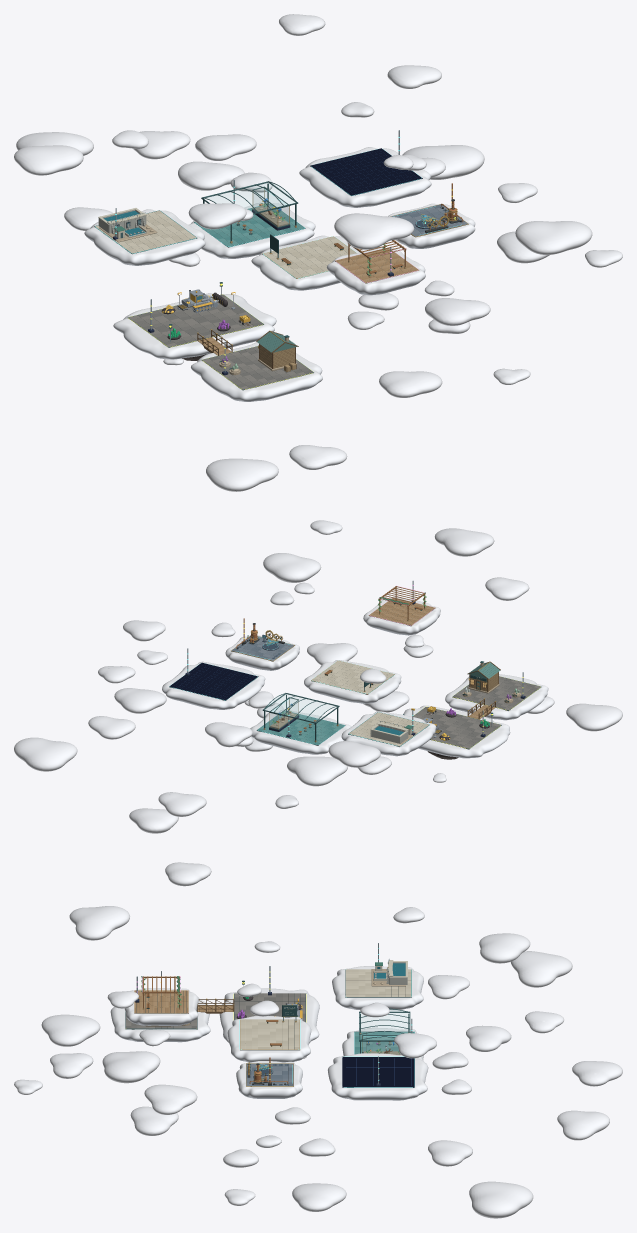
The model's file is cloud-world.glb.
3 renders of one model, top to bottom at view 1: azimuth 30°, elevation 25°; view 2: azimuth 150°, elevation 25°; view 3: azimuth 270°, elevation 25°, orthographic. The views are drawn at different scales.
Parts seen in each view (by area): view 1: Mine sculpted cloud, NeonFox arena floor, Neonfox sculpted cloud, Adventure sculpted cloud, Dam sculpted cloud, Drifting cloud, Drifting cloud.007, Drifting cloud.015, Water sculpted cloud, Calm sculpted cloud, Drifting cloud.020, Drifting cloud.009 (+18 smaller); view 2: NeonFox arena floor, Neonfox sculpted cloud, Drifting cloud.009, Mine sculpted cloud, Welcome sculpted cloud, Adventure sculpted cloud, Water sculpted cloud, Drifting cloud.018, Dam sculpted cloud, Drifting cloud.007, Drifting cloud, Drifting cloud.015 (+17 smaller); view 3: NeonFox arena floor, Neonfox sculpted cloud, Drifting cloud.009, Welcome sculpted cloud, Dam sculpted cloud, Drifting cloud.018, Drifting cloud, Drifting cloud.007, Drifting cloud.015, Adventure sculpted cloud, Drifting cloud.020, Calm sculpted cloud (+21 smaller).
Boxes of the visible parts, bbox=[...] form: Mine sculpted cloud: bbox=[113, 293, 276, 359]; NeonFox arena floor: bbox=[310, 148, 422, 195]; Neonfox sculpted cloud: bbox=[299, 147, 431, 207]; Adventure sculpted cloud: bbox=[191, 342, 322, 401]; Dam sculpted cloud: bbox=[84, 209, 205, 265]; Drifting cloud: bbox=[334, 213, 414, 249]; Drifting cloud.007: bbox=[515, 221, 592, 254]; Drifting cloud.015: bbox=[206, 458, 278, 491]; Water sculpted cloud: bbox=[188, 202, 315, 258]; Calm sculpted cloud: bbox=[326, 247, 425, 295]; Drifting cloud.020: bbox=[14, 145, 83, 175]; Drifting cloud.009: bbox=[402, 145, 484, 179]; NeonFox arena floor: bbox=[169, 662, 258, 700]; Neonfox sculpted cloud: bbox=[162, 661, 265, 709]; Drifting cloud.009: bbox=[14, 737, 77, 771]; Mine sculpted cloud: bbox=[403, 705, 510, 758]; Welcome sculpted cloud: bbox=[304, 660, 401, 703]; Adventure sculpted cloud: bbox=[445, 674, 548, 720]; Water sculpted cloud: bbox=[250, 709, 351, 754]; Drifting cloud.018: bbox=[287, 756, 347, 786]; Dam sculpted cloud: bbox=[341, 711, 436, 756]; Drifting cloud.007: bbox=[263, 553, 321, 582]; Drifting cloud: bbox=[434, 528, 494, 556]; Drifting cloud.015: bbox=[566, 703, 622, 731]; NeonFox arena floor: bbox=[342, 1056, 414, 1087]; Neonfox sculpted cloud: bbox=[327, 1053, 428, 1100]; Drifting cloud.009: bbox=[469, 1181, 533, 1218]; Welcome sculpted cloud: bbox=[227, 1016, 311, 1062]; Dam sculpted cloud: bbox=[332, 966, 423, 1010]; Drifting cloud.018: bbox=[510, 951, 572, 987]; Drifting cloud: bbox=[69, 906, 129, 940]; Drifting cloud.007: bbox=[102, 1051, 160, 1083]; Drifting cloud.015: bbox=[41, 1014, 100, 1046]; Adventure sculpted cloud: bbox=[110, 997, 210, 1042]; Drifting cloud.020: bbox=[479, 933, 530, 963]; Calm sculpted cloud: bbox=[124, 988, 198, 1025].
Size of the model in its own units: 85.95 by 34.58 by 101.
